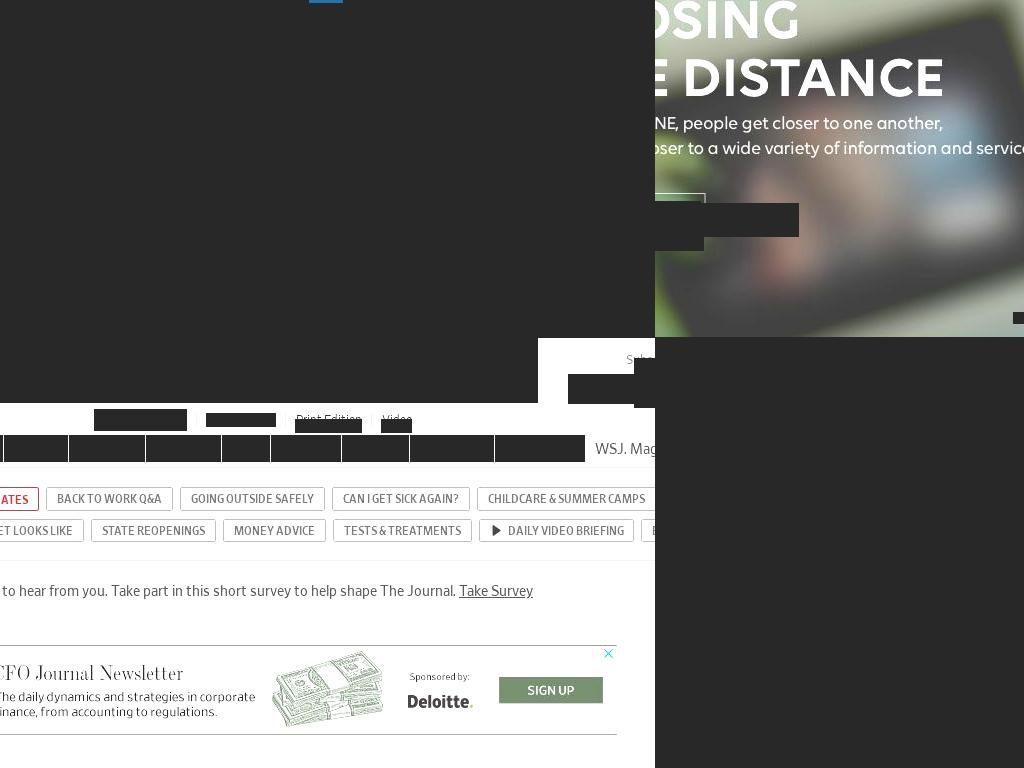button: (0, 338, 538, 403), (318, 155, 655, 226), (318, 236, 655, 307), (0, 155, 288, 226), (0, 236, 288, 307), (708, 614, 944, 653), (318, 317, 655, 337), (477, 487, 655, 511), (689, 203, 799, 237), (479, 519, 634, 542), (180, 487, 325, 511), (332, 487, 470, 511), (333, 519, 472, 542), (46, 487, 173, 511), (91, 519, 216, 542), (568, 374, 655, 404), (495, 435, 585, 462), (223, 519, 326, 542), (410, 435, 494, 462), (69, 435, 145, 462), (94, 409, 187, 431), (146, 435, 221, 462), (0, 519, 84, 542), (271, 435, 341, 462), (586, 435, 655, 462), (342, 435, 409, 462), (4, 435, 68, 462), (655, 216, 704, 251), (655, 201, 701, 235), (222, 435, 270, 462), (0, 487, 39, 511), (655, 203, 682, 237), (1013, 312, 1024, 324)
field: (548, 27, 655, 52)
heading: (0, 0, 655, 337)
iframe: (655, 337, 1024, 596), (0, 645, 617, 735)
image: (655, 337, 1024, 768), (0, 65, 655, 232), (0, 216, 655, 316), (568, 374, 655, 402), (491, 525, 502, 536)
link: (50, 28, 191, 77), (231, 28, 371, 77), (634, 358, 655, 408), (459, 585, 533, 599), (295, 419, 362, 433), (381, 419, 412, 433)
text: (0, 735, 655, 753), (0, 585, 459, 599), (377, 263, 572, 289), (0, 182, 189, 208), (381, 182, 517, 208), (0, 263, 105, 289), (508, 526, 624, 537), (206, 413, 276, 427), (94, 414, 175, 426), (0, 494, 28, 507)
